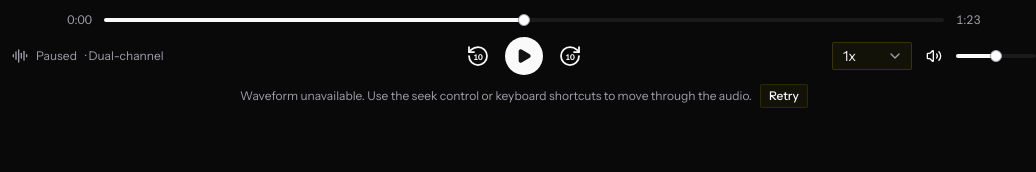
Test case: RecordingPlayer › keeps playback and seeking available when the peaks request fails, explains it, and retries
Check: the text "Waveform unavailable. Use the seek control or keyboard shortcuts to move through the audio." is shown, box [240, 88, 752, 103]
Check: the button named "Play" is enabled, box [504, 36, 544, 76]
Step 1. Click the button "Retry" → click(784, 96), box [760, 84, 808, 108]
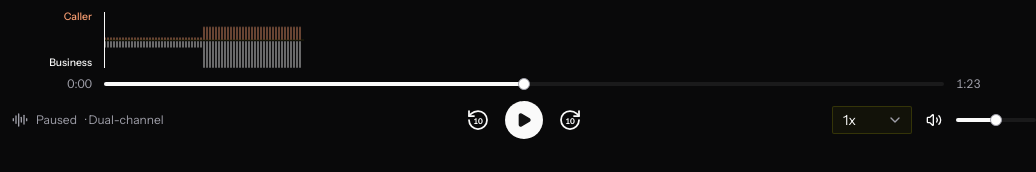
Check: the element named "Waveform" is shown, box [104, 12, 304, 68]
